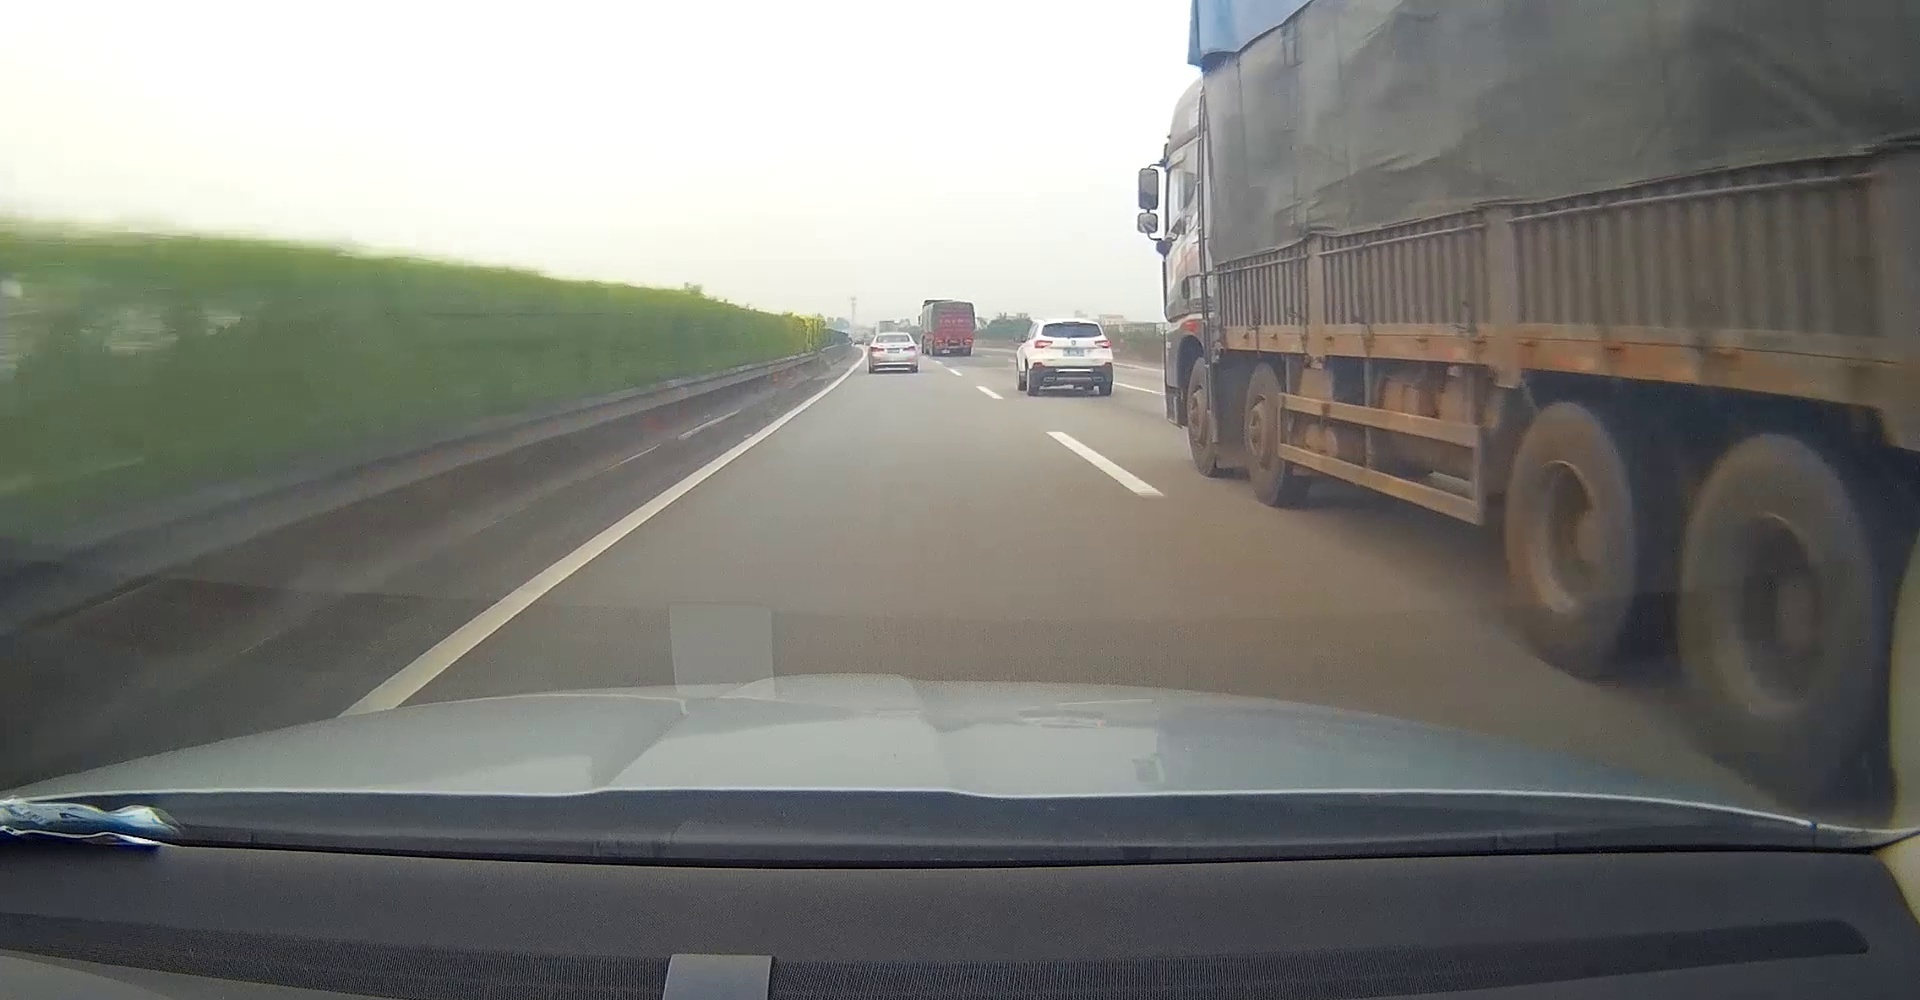L_light: (1032, 339, 1051, 348), (870, 346, 884, 352)
R_light: (1095, 339, 1111, 348), (902, 346, 916, 352)
T_light: (1064, 321, 1079, 325), (891, 335, 899, 336)
day-no: (1029, 317, 1112, 395), (869, 331, 918, 372)
